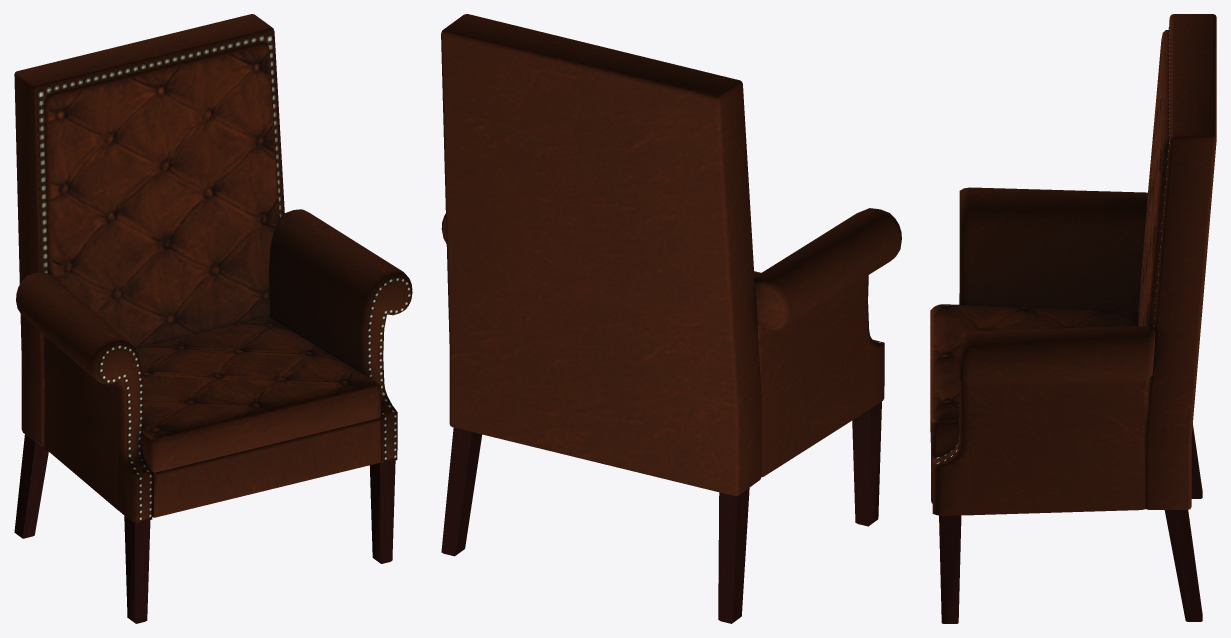
Rendered from West_Chair_Leath_Brown_001.obj.
3 views of the same model, side by side, from view 1: azimuth 30°, elevation 25°; view 2: azimuth 150°, elevation 25°; view 3: azimuth 270°, elevation 25° (orthographic). The views are drawn at different scales.
Visible parts, largest first — view 1: West_Chair_Leath_Brown_001_LOD0; view 2: West_Chair_Leath_Brown_001_LOD0; view 3: West_Chair_Leath_Brown_001_LOD0.
Boxes of the visible parts, x1,y1,x2,y2 form: West_Chair_Leath_Brown_001_LOD0: (14,14,412,623); West_Chair_Leath_Brown_001_LOD0: (441,14,901,623); West_Chair_Leath_Brown_001_LOD0: (930,14,1216,623).
Size of the model in its own units: 0.857 by 1.17 by 0.6298.
Materials: 1 (1 with a texture image).
